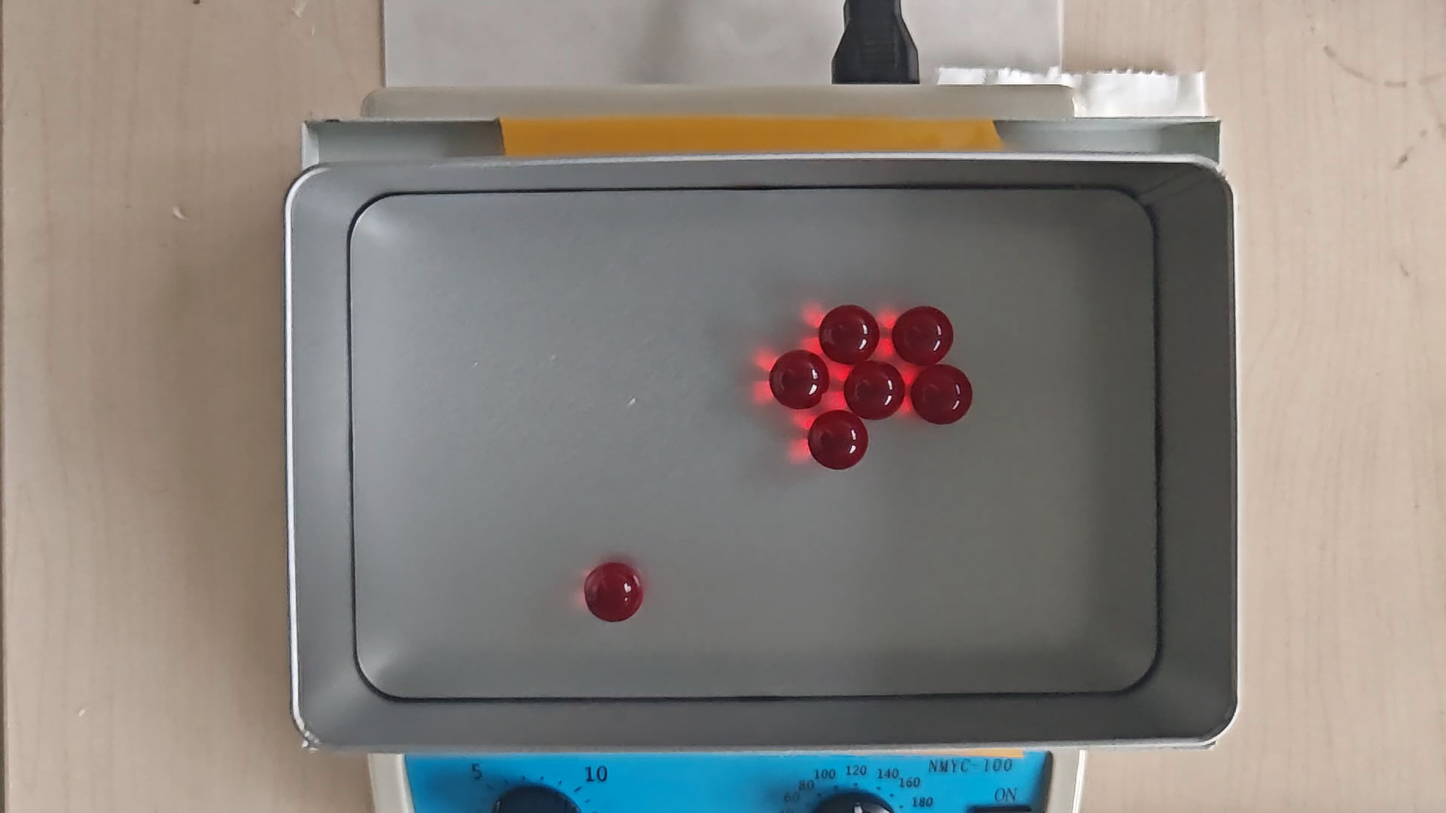ball: (583, 562, 643, 625), (810, 411, 870, 469), (820, 304, 878, 364), (894, 306, 952, 365), (914, 365, 971, 425), (847, 361, 905, 419), (771, 350, 828, 406)
container: (346, 187, 1165, 699)
